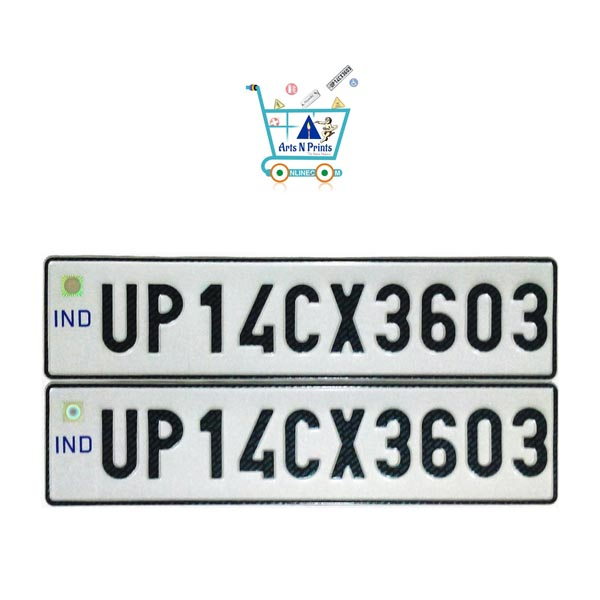numberplate: (38, 378, 559, 509), (41, 254, 560, 384)
